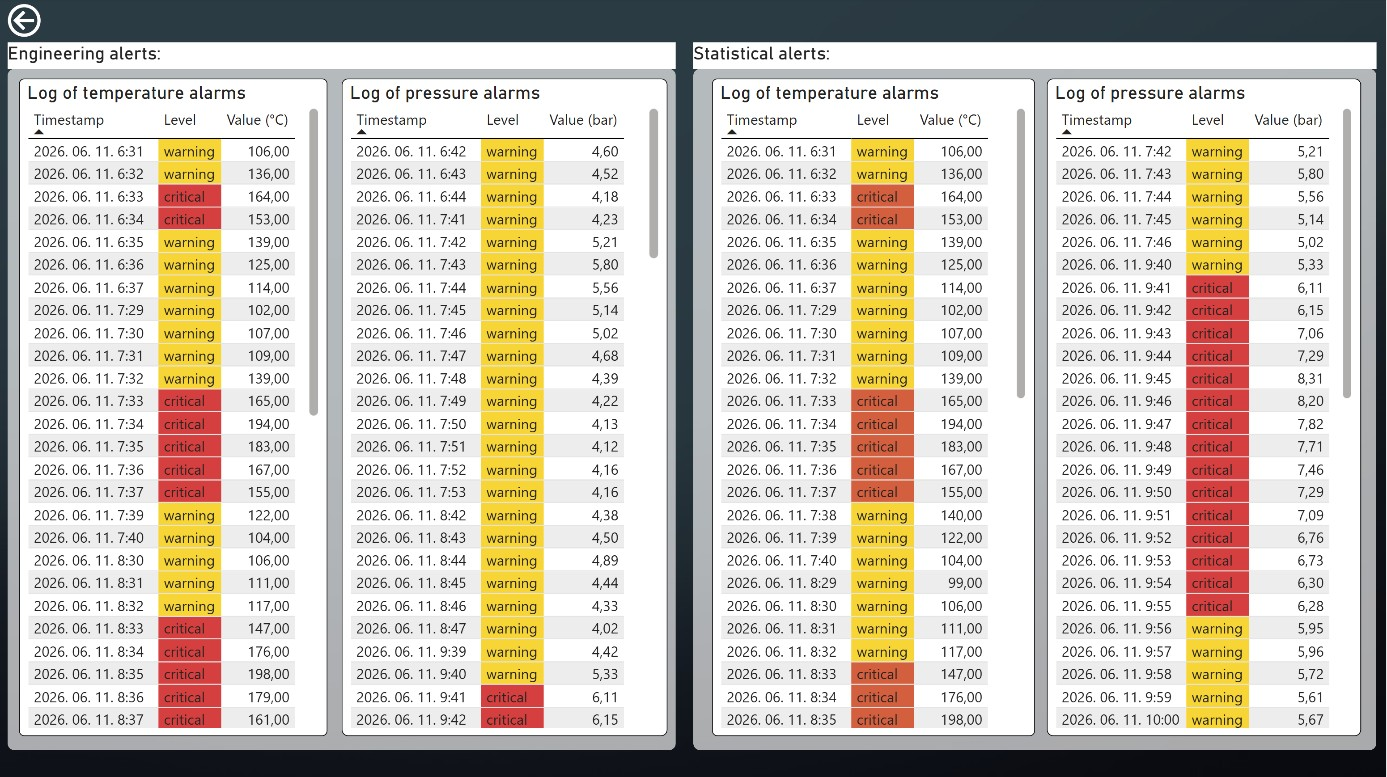

This screenshot's page, from the dashboard's own definition file:
{"tool":"powerbi","page":{"name":"Alerts_log","canvas":[1280,720],"ordinal":2},"visuals":[{"type":"shape","title":"Engineering alerts:","box":[7.4,40.3,616.8,653.3],"z":0},{"type":"tableEx","title":"Log of temperature alarms","fields":{"Values":["engineering_alerts.timestamp","engineering_alerts.level","Sum(engineering_alerts.value)"]},"box":[18,73.7,284.9,607.5],"z":1000},{"type":"tableEx","title":"Log of pressure alarms","fields":{"Values":["engineering_alerts.timestamp","engineering_alerts.level","Sum(engineering_alerts.value)"]},"box":[315.8,73.7,301,607.5],"z":2000},{"type":"shape","title":"Statistical alerts:","box":[640.3,40.3,630.4,653.3],"z":3000},{"type":"tableEx","title":"Log of temperature alarms","fields":{"Values":["statistical_alerts.timestamp","statistical_alerts.level","statistical_alerts.value"]},"box":[657.7,73.7,297.9,607.5],"z":4000},{"type":"tableEx","title":"Log of pressure alarms","fields":{"Values":["statistical_alerts.timestamp","statistical_alerts.level","statistical_alerts.value"]},"box":[966.7,73.7,289.8,607.5],"z":5000},{"type":"actionButton","box":[0,0,45.2,40.3],"z":6000}]}

Visuals, with their boxes in screenshot pixels (x1, y1, x2, y2):
"Engineering alerts:" shape: {"x1": 0, "y1": 37, "x2": 674, "y2": 758}
"Log of temperature alarms" tableEx: {"x1": 5, "y1": 74, "x2": 320, "y2": 744}
"Log of pressure alarms" tableEx: {"x1": 334, "y1": 74, "x2": 666, "y2": 744}
"Statistical alerts:" shape: {"x1": 692, "y1": 37, "x2": 1386, "y2": 758}
"Log of temperature alarms" tableEx: {"x1": 711, "y1": 74, "x2": 1039, "y2": 744}
"Log of pressure alarms" tableEx: {"x1": 1052, "y1": 74, "x2": 1371, "y2": 744}
actionButton: {"x1": 0, "y1": 0, "x2": 35, "y2": 37}
